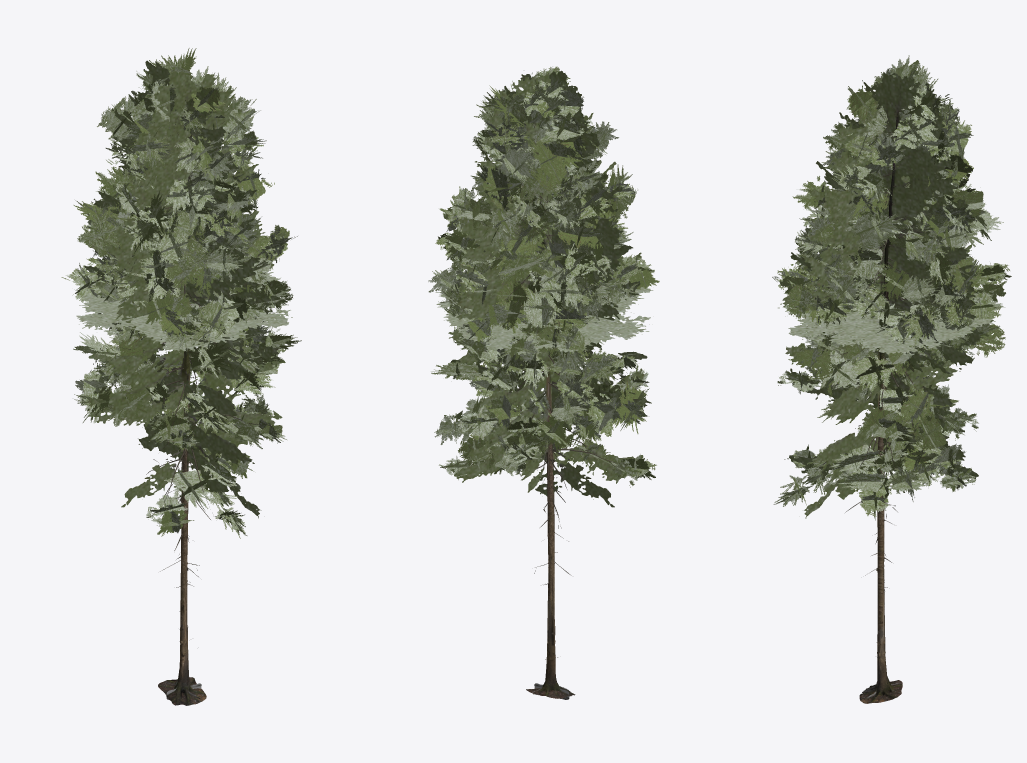
Rendered from pine.gltf.
3 views of the same model, side by side, from view 1: azimuth 30°, elevation 25°; view 2: azimuth 150°, elevation 25°; view 3: azimuth 270°, elevation 25° (orthographic).
Visible parts, largest first — view 1: pine; view 2: pine; view 3: pine.
Boxes of the visible parts, box(x1,y1,x2,y2) form: pine: box(61, 48, 301, 705); pine: box(428, 66, 659, 699); pine: box(772, 55, 1011, 703).
Size of the model in its own units: 4.16 by 11.12 by 4.14.
9 materials, 9 textured.
